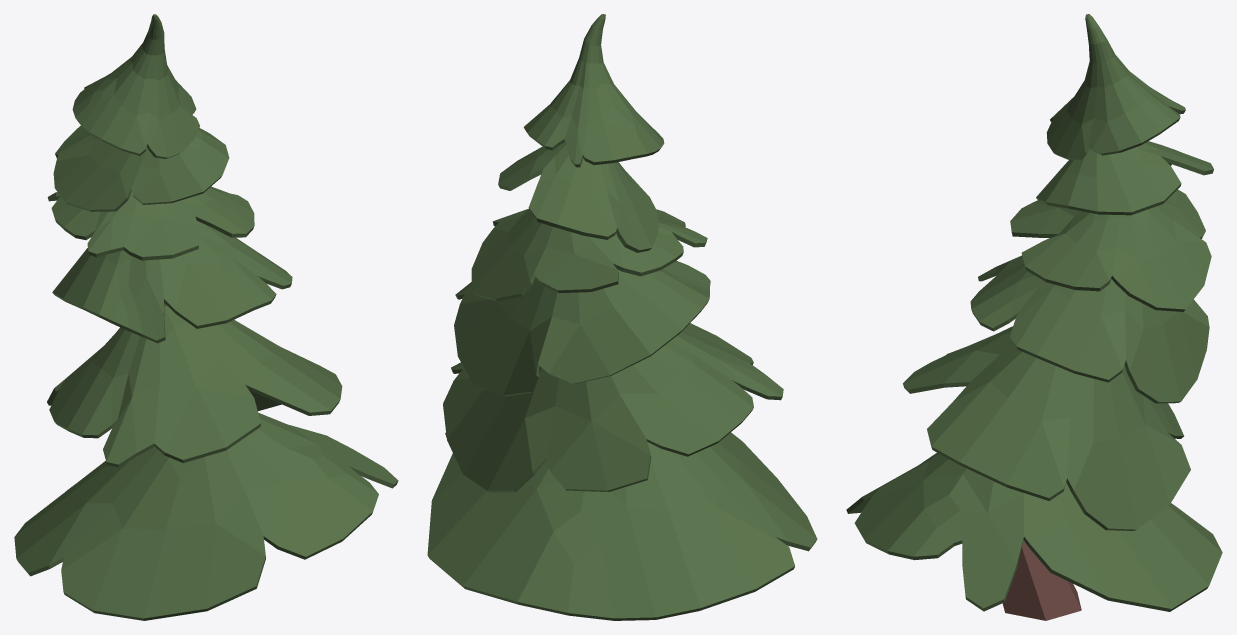
File: PineTree_3.glb
3 views of the same model, side by side, from view 1: azimuth 30°, elevation 25°; view 2: azimuth 150°, elevation 25°; view 3: azimuth 270°, elevation 25° (orthographic). The views are drawn at different scales.
Parts seen in each view (by area): view 1: PineTree_3; view 2: PineTree_3; view 3: PineTree_3.
Part boxes in pixels (x1,y1,x2,y2): PineTree_3: [14, 14, 398, 620]; PineTree_3: [427, 14, 817, 620]; PineTree_3: [846, 14, 1222, 620].
Size of the model in its own units: 2.16 by 3.3 by 1.95.
